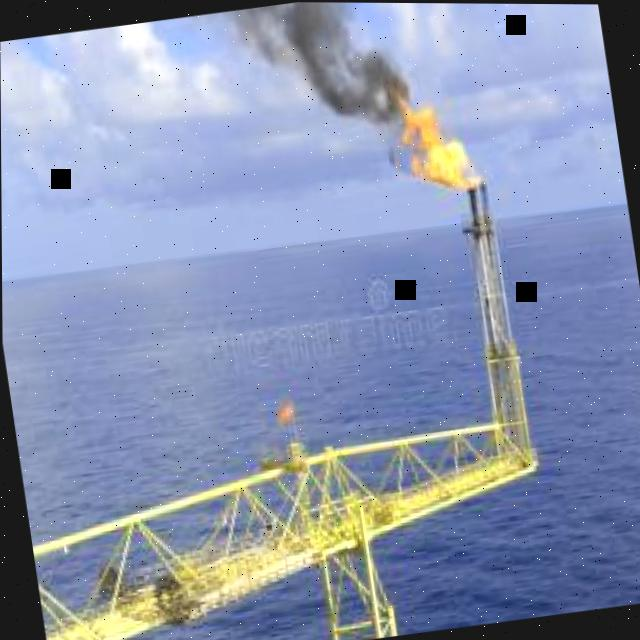fire: (397, 94, 486, 194)
smoke: (193, 2, 415, 175)
